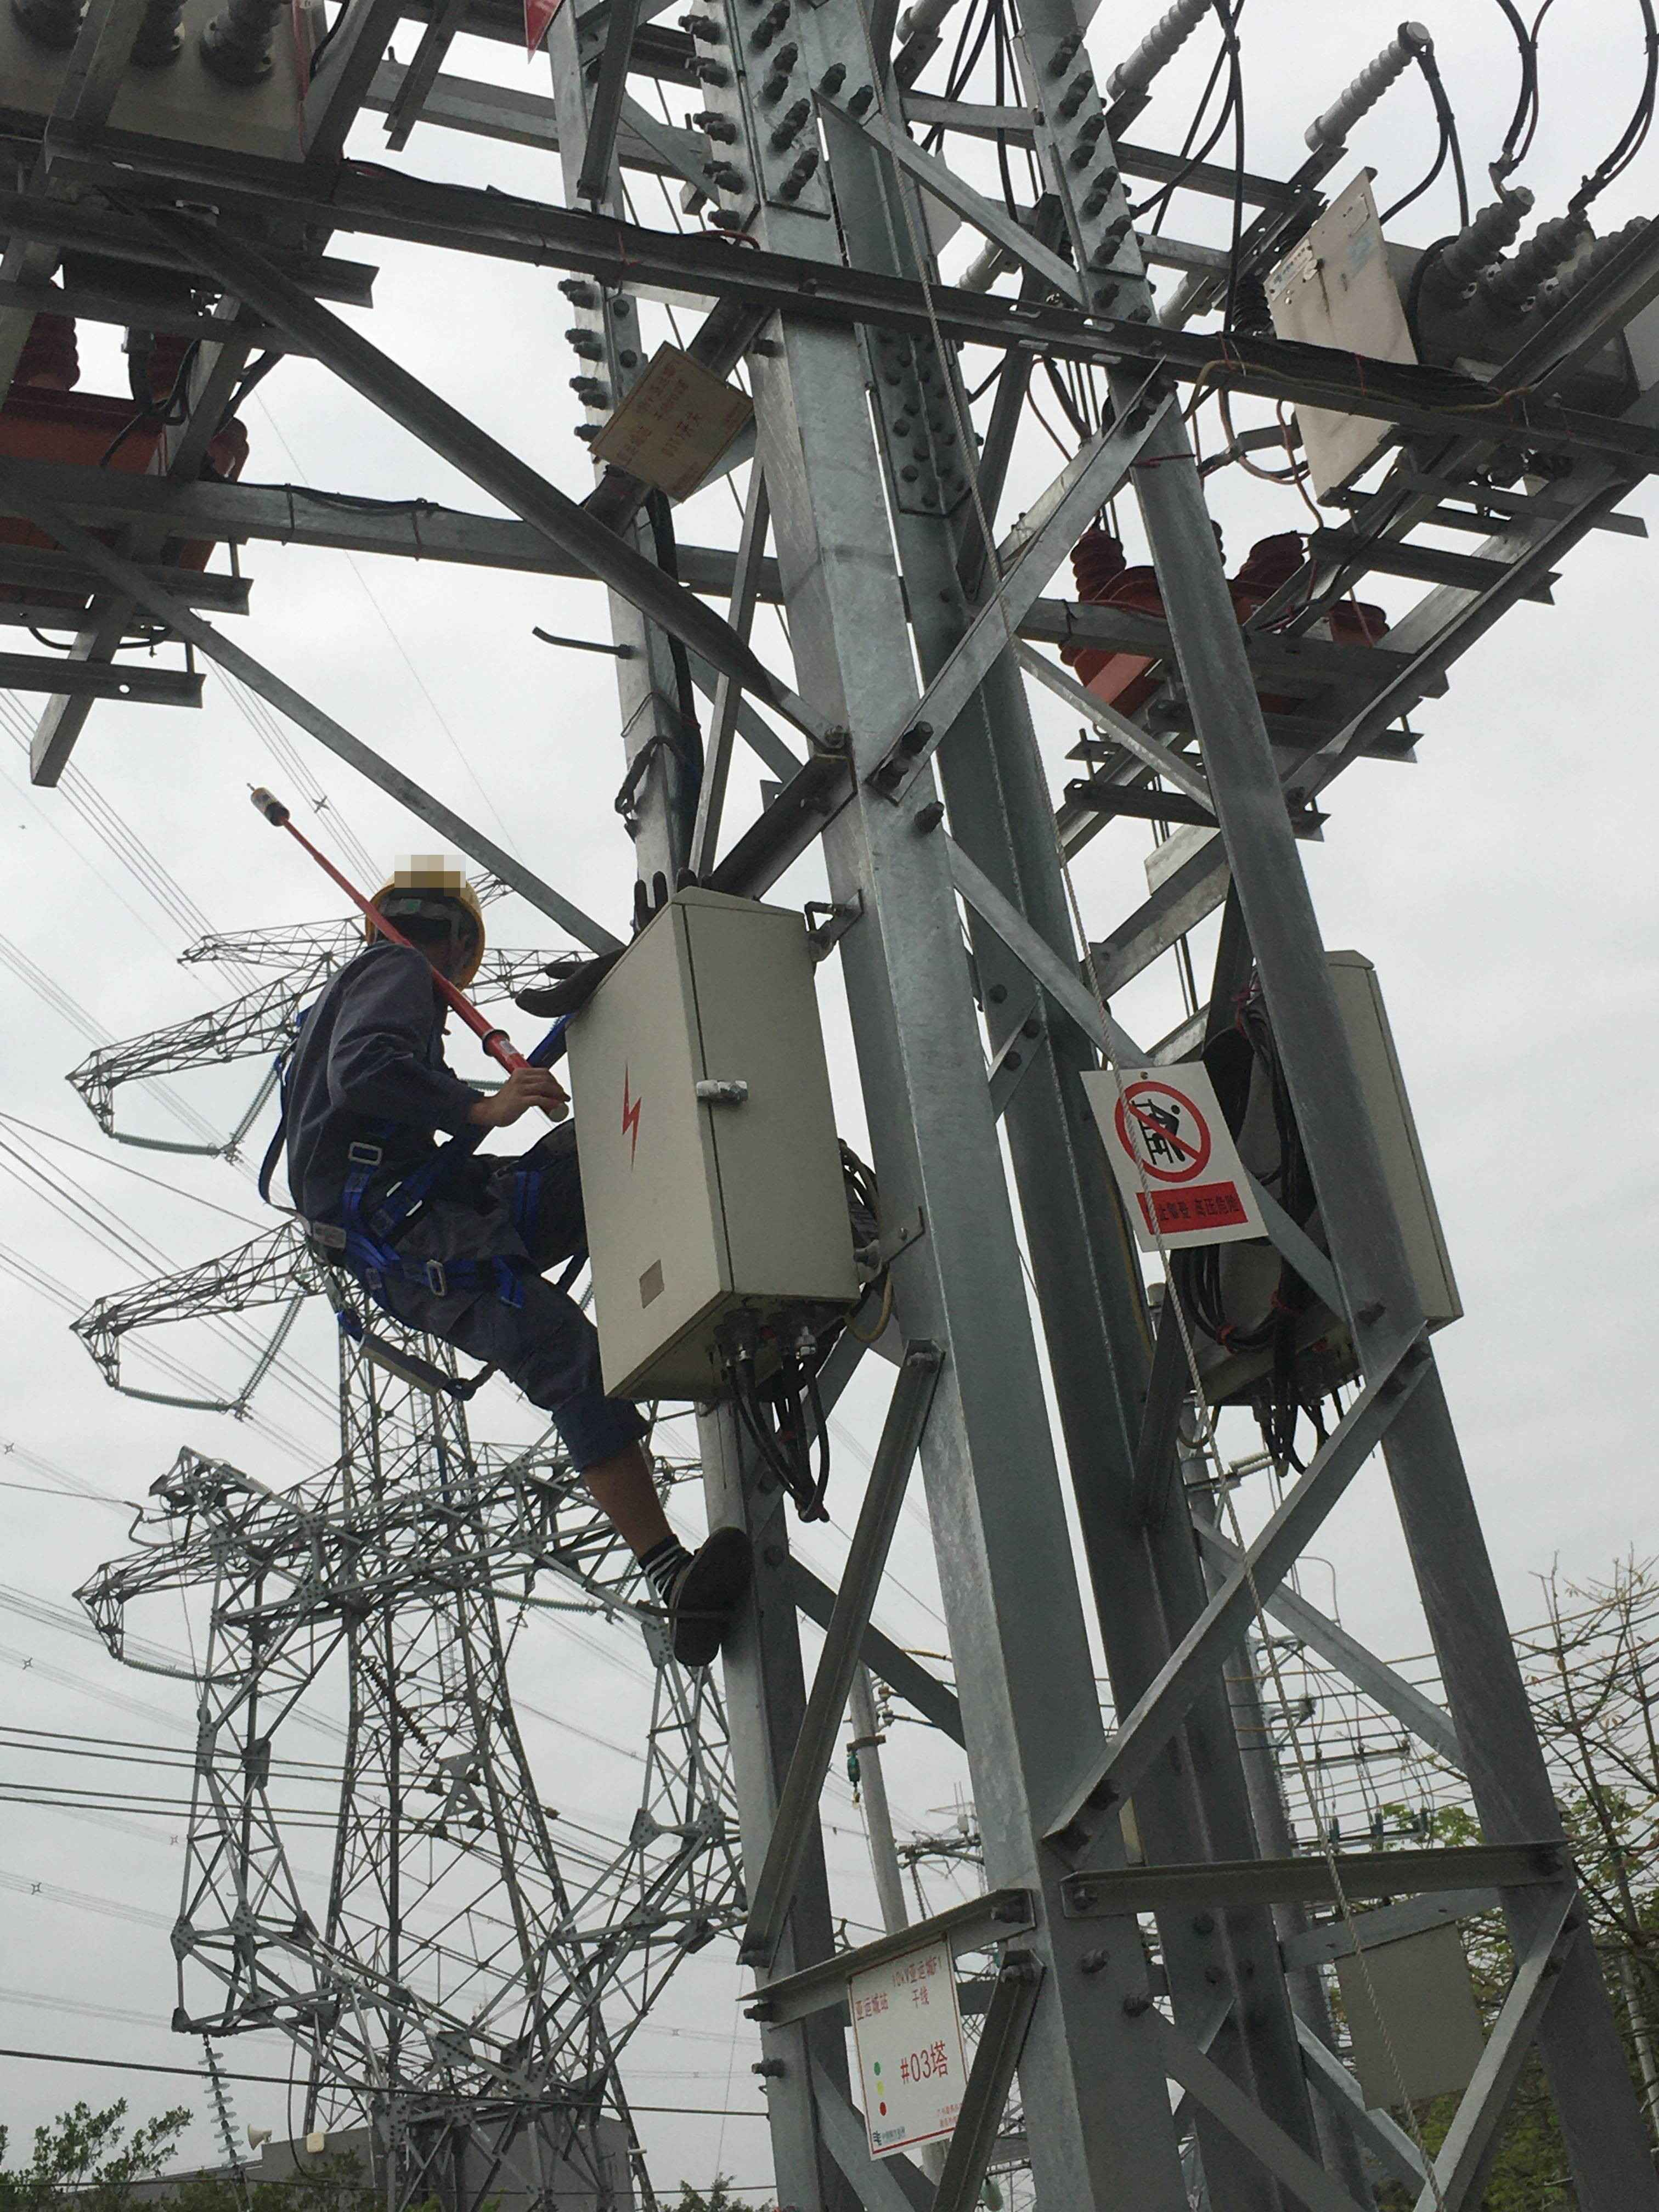downsuit: (371, 1137, 634, 1482)
upsuit: (282, 944, 479, 1211)
wrongbottom: (561, 1407, 694, 1588)
